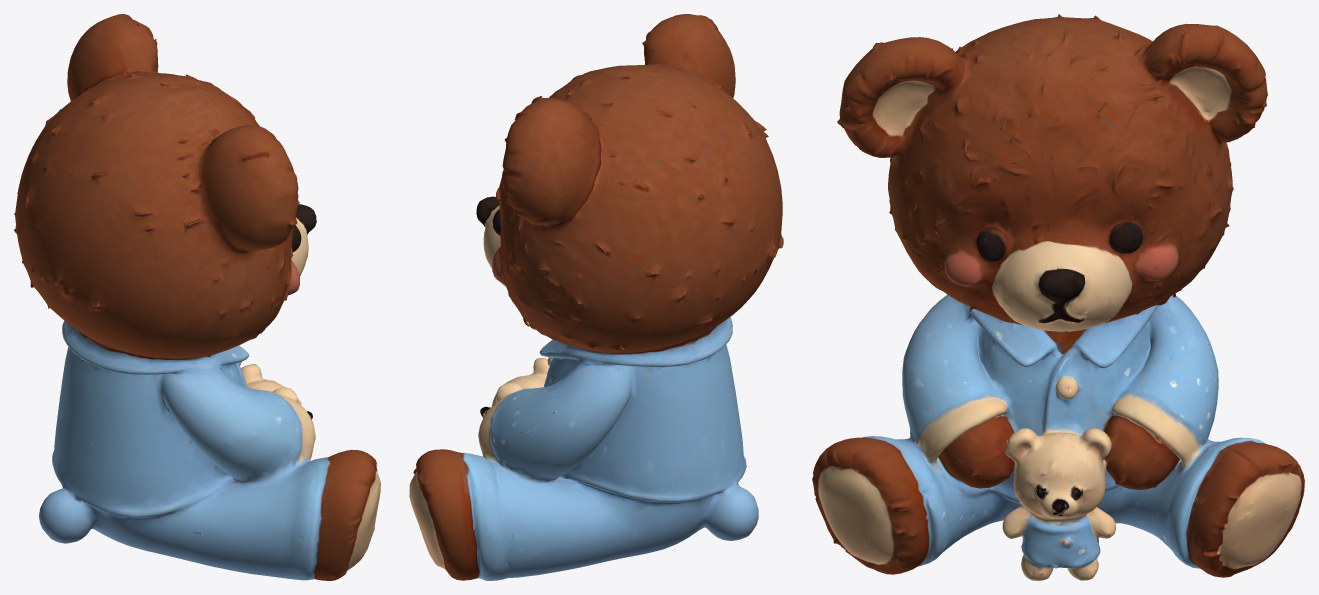
File: keepsake-pajama-bear.glb
The picture shows the model from 3 angles, left to right: view 1: azimuth 30°, elevation 25°; view 2: azimuth 150°, elevation 25°; view 3: azimuth 270°, elevation 25°; orthographic projection. The views are drawn at different scales.
Parts seen in each view (by area): view 1: tripo_node_727c1ed4-78c8-4684-a779-d1b72c1b914a; view 2: tripo_node_727c1ed4-78c8-4684-a779-d1b72c1b914a; view 3: tripo_node_727c1ed4-78c8-4684-a779-d1b72c1b914a.
Boxes of the visible parts, x1,y1,x2,y2 form: tripo_node_727c1ed4-78c8-4684-a779-d1b72c1b914a: (14,14,380,580); tripo_node_727c1ed4-78c8-4684-a779-d1b72c1b914a: (409,14,783,580); tripo_node_727c1ed4-78c8-4684-a779-d1b72c1b914a: (812,14,1304,580).
Size of the model in its own units: 0.5993 by 0.9775 by 0.8535.
1 material, 1 textured.
